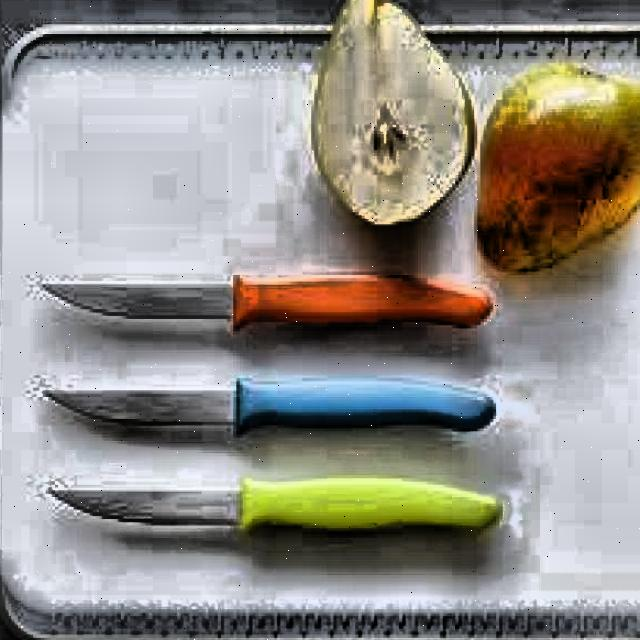knife: (39, 265, 503, 334), (45, 475, 508, 543), (43, 377, 499, 442)
